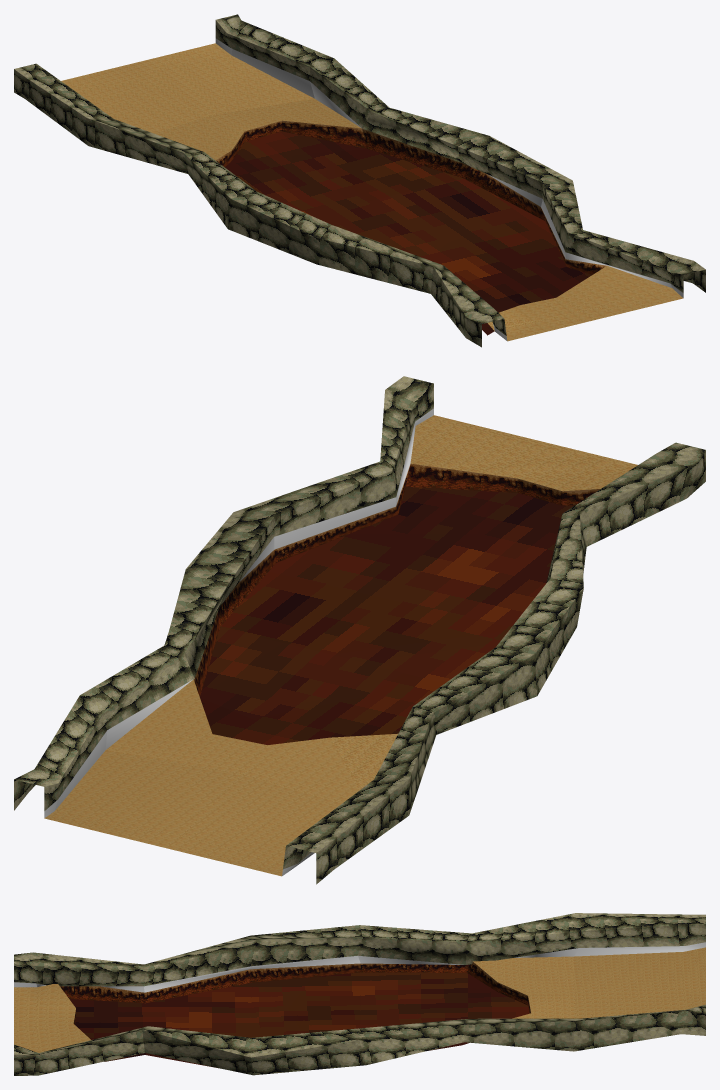
3 renders of one model, top to bottom at view 1: azimuth 30°, elevation 25°; view 2: azimuth 150°, elevation 25°; view 3: azimuth 270°, elevation 25°, orthographic. The views are drawn at different scales.
Parts seen in each view (by area): view 1: tv_t1b0e0v3; view 2: tv_t1b0e0v3; view 3: tv_t1b0e0v3.
Part boxes in pixels (bbox=[...]): tv_t1b0e0v3: bbox=[14, 14, 705, 347]; tv_t1b0e0v3: bbox=[14, 376, 705, 884]; tv_t1b0e0v3: bbox=[14, 913, 705, 1075].
Size of what is drawn, in the model's own units: 14.09 by 29.27 by 1.86.
